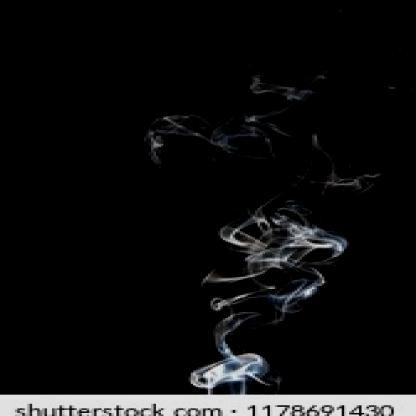smoke: (183, 196, 346, 393), (135, 74, 331, 158)
